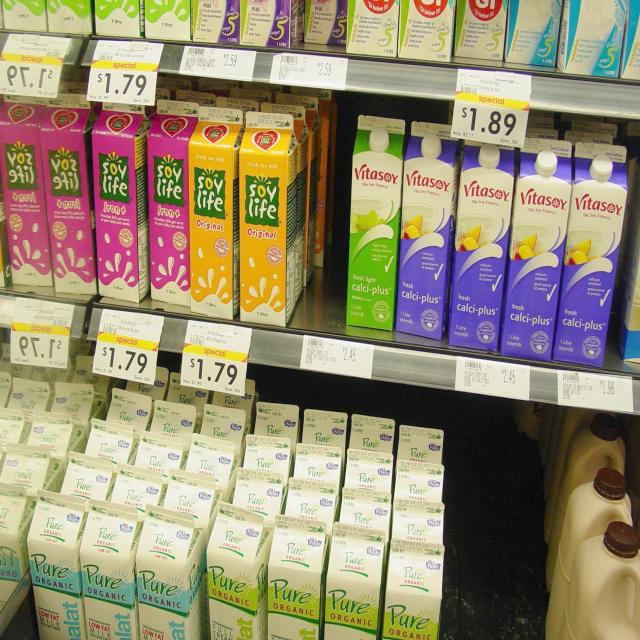empty_space: (453, 441, 537, 640), (307, 136, 343, 320)
